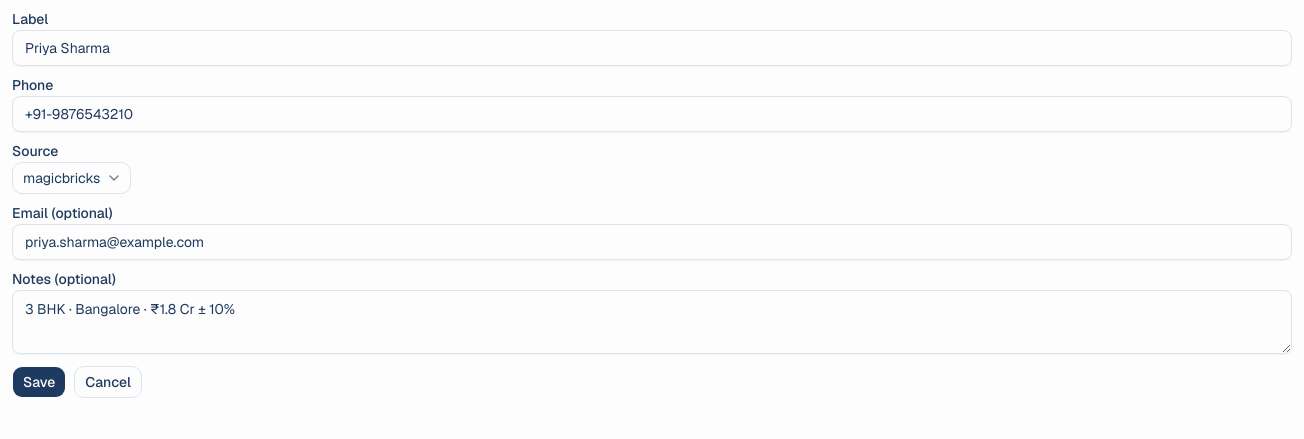
Test: EditLeadForm › renders inline field errors from the action
Click the button with test id "edit-save": x=39, y=382 [12,366,66,398]
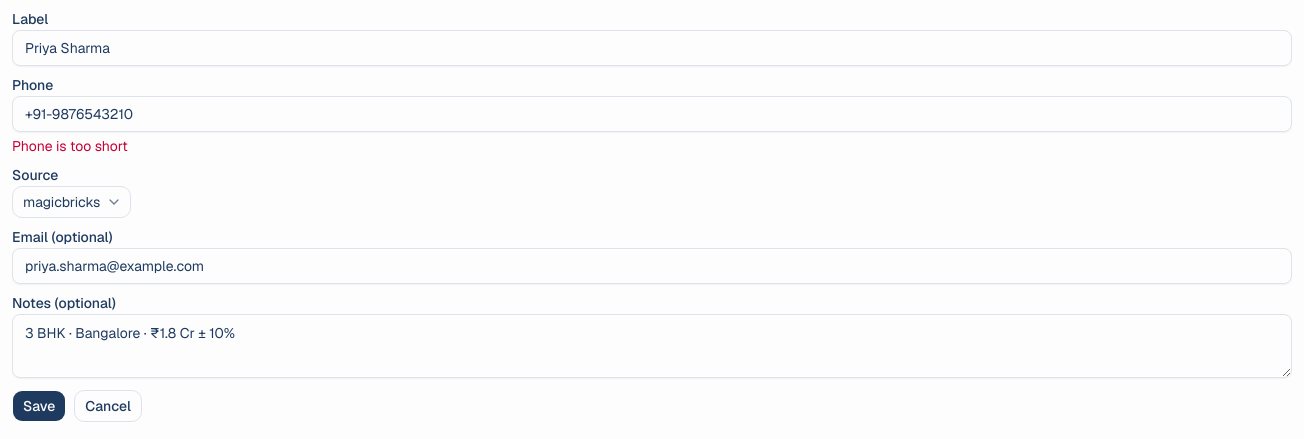
Now the text "Phone is too short" is shown, box [12,137,128,155]
